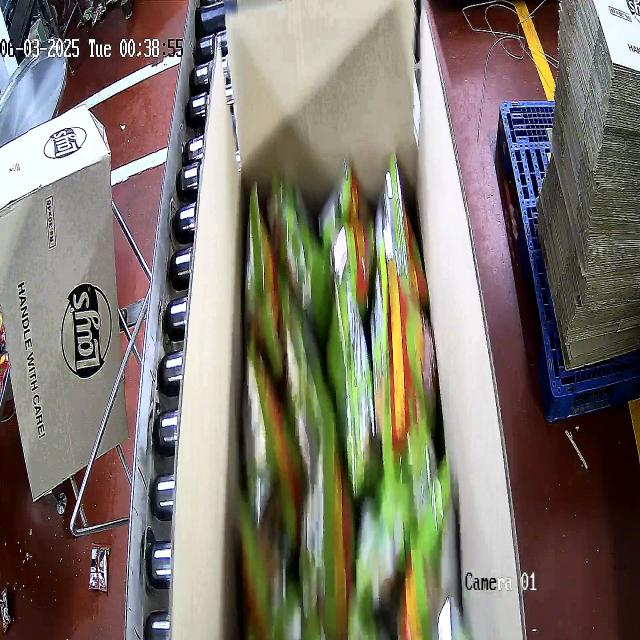YOGURT_HERB: (241, 148, 461, 638)
